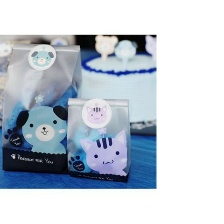snack: (0, 38, 86, 178), (60, 92, 137, 187)
